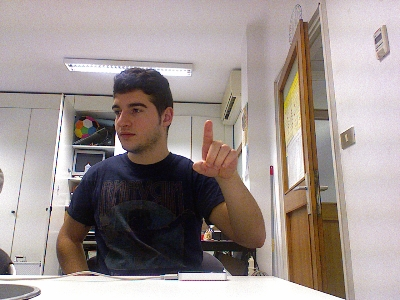食指: (191, 118, 238, 179)
